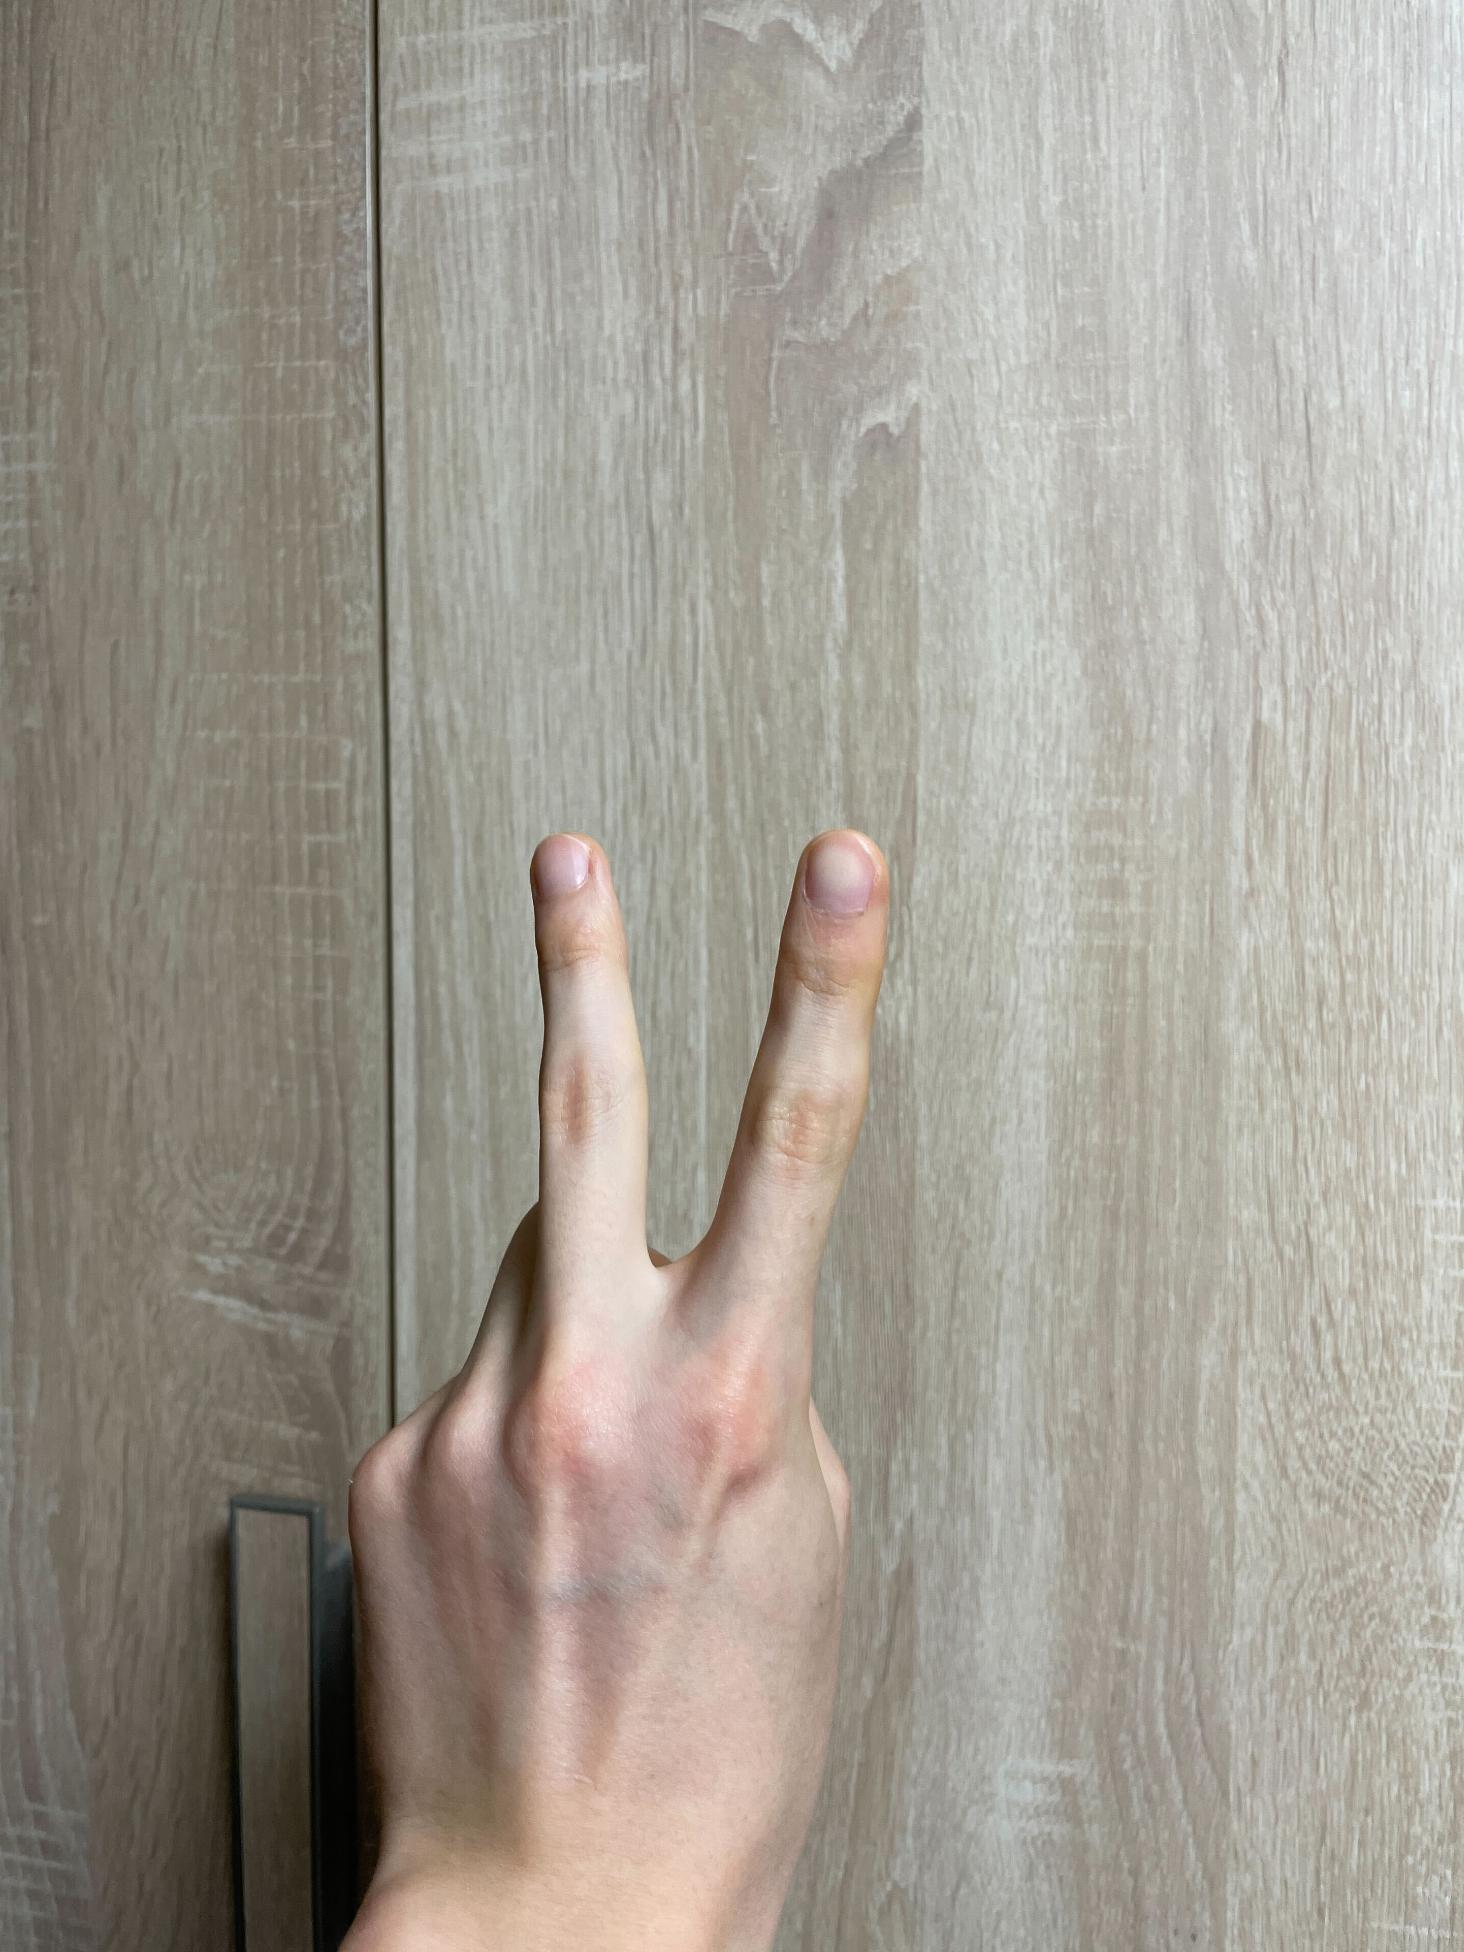v: (324, 813, 898, 1952)
